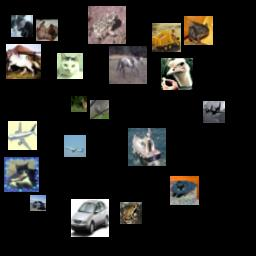airplane: (8, 121, 37, 150), (64, 135, 86, 157), (203, 101, 225, 123)
automobile: (71, 199, 109, 237), (30, 195, 46, 211)
bird: (161, 58, 193, 90), (90, 100, 109, 119)
cat: (4, 157, 39, 192), (170, 176, 199, 205), (57, 53, 83, 79), (11, 15, 33, 37)
deer: (71, 96, 87, 112)
dog: (36, 19, 58, 41)
frog: (88, 6, 126, 44), (184, 16, 213, 45), (120, 202, 142, 224)
ship: (128, 128, 166, 166)
truck: (152, 23, 181, 52)
